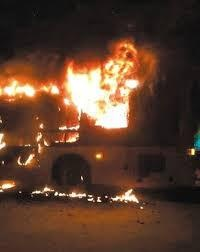fire: (4, 39, 145, 131), (110, 184, 142, 207)
